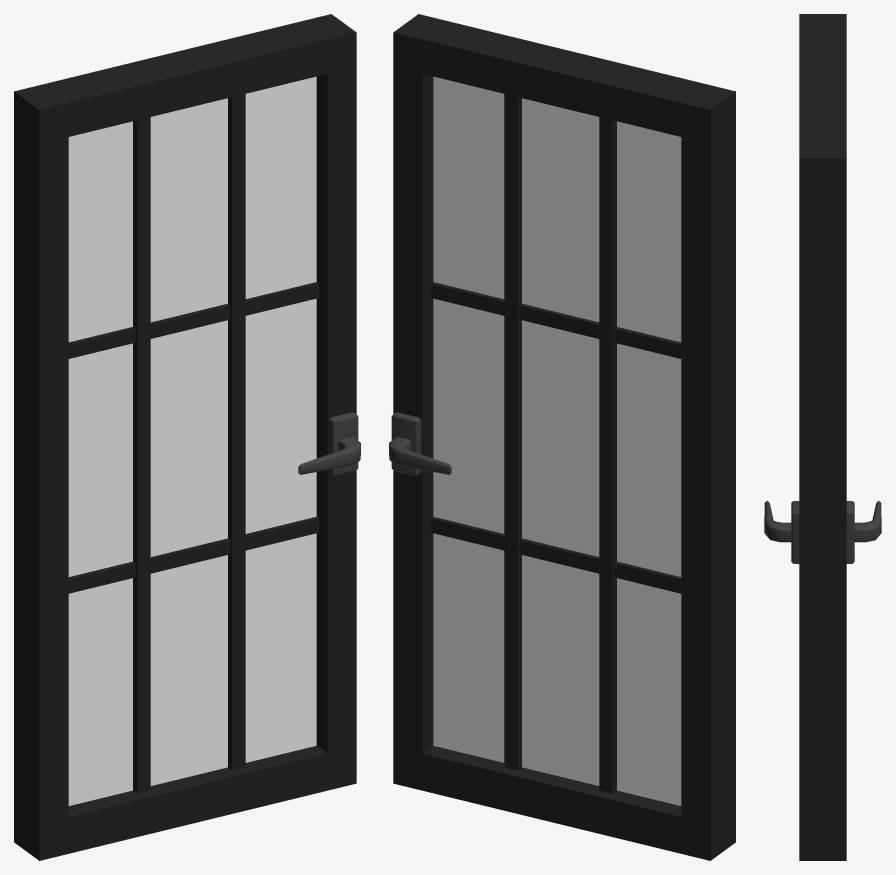
Rendered from door_017.fbx.
3 views of the same model, side by side, from view 1: azimuth 30°, elevation 25°; view 2: azimuth 150°, elevation 25°; view 3: azimuth 270°, elevation 25° (orthographic). The views are drawn at different scales.
Parts seen in each view (by area): view 1: door_017; view 2: door_017; view 3: door_017.
Boxes of the visible parts, x1,y1,x2,y2 form: door_017: (14, 14, 360, 860); door_017: (389, 14, 735, 860); door_017: (764, 14, 881, 860).
Size of the model in its own units: 95.15 by 32.58 by 215.
